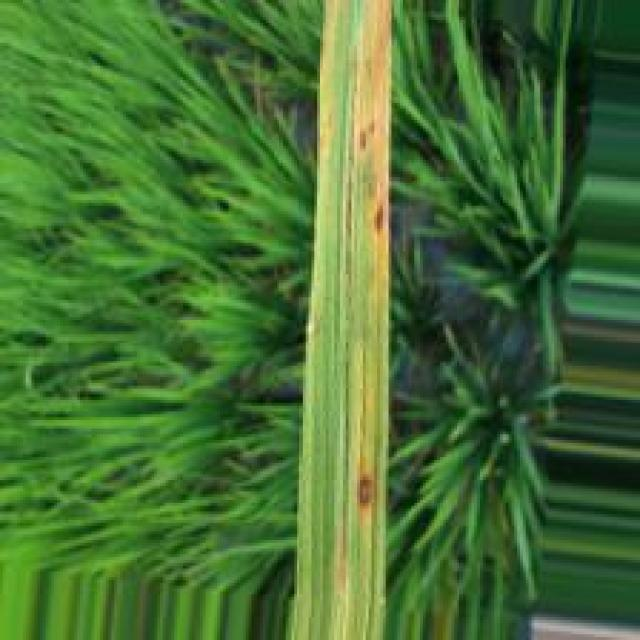Brown_Spot: (348, 472, 376, 515), (354, 115, 375, 154), (370, 199, 388, 238)
